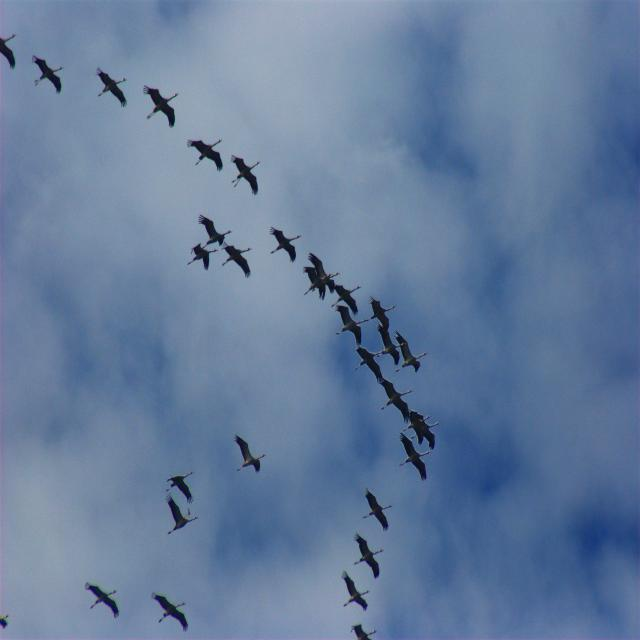bird: (396, 401, 440, 449), (398, 436, 431, 481), (154, 594, 190, 634), (393, 335, 429, 375), (143, 88, 180, 126), (332, 303, 364, 345), (354, 534, 384, 578), (373, 376, 407, 414), (31, 56, 64, 95), (187, 140, 224, 174), (86, 583, 120, 620), (234, 434, 265, 474), (269, 227, 302, 264), (98, 68, 130, 105), (220, 241, 252, 278), (344, 572, 374, 611), (233, 156, 262, 195), (365, 490, 391, 532), (199, 215, 233, 247), (166, 499, 197, 533), (166, 470, 197, 504), (368, 297, 396, 334), (333, 280, 363, 314), (302, 263, 328, 300), (355, 347, 384, 378), (309, 252, 339, 278), (1, 31, 20, 70), (188, 246, 213, 272), (350, 622, 380, 640), (0, 606, 10, 634)
